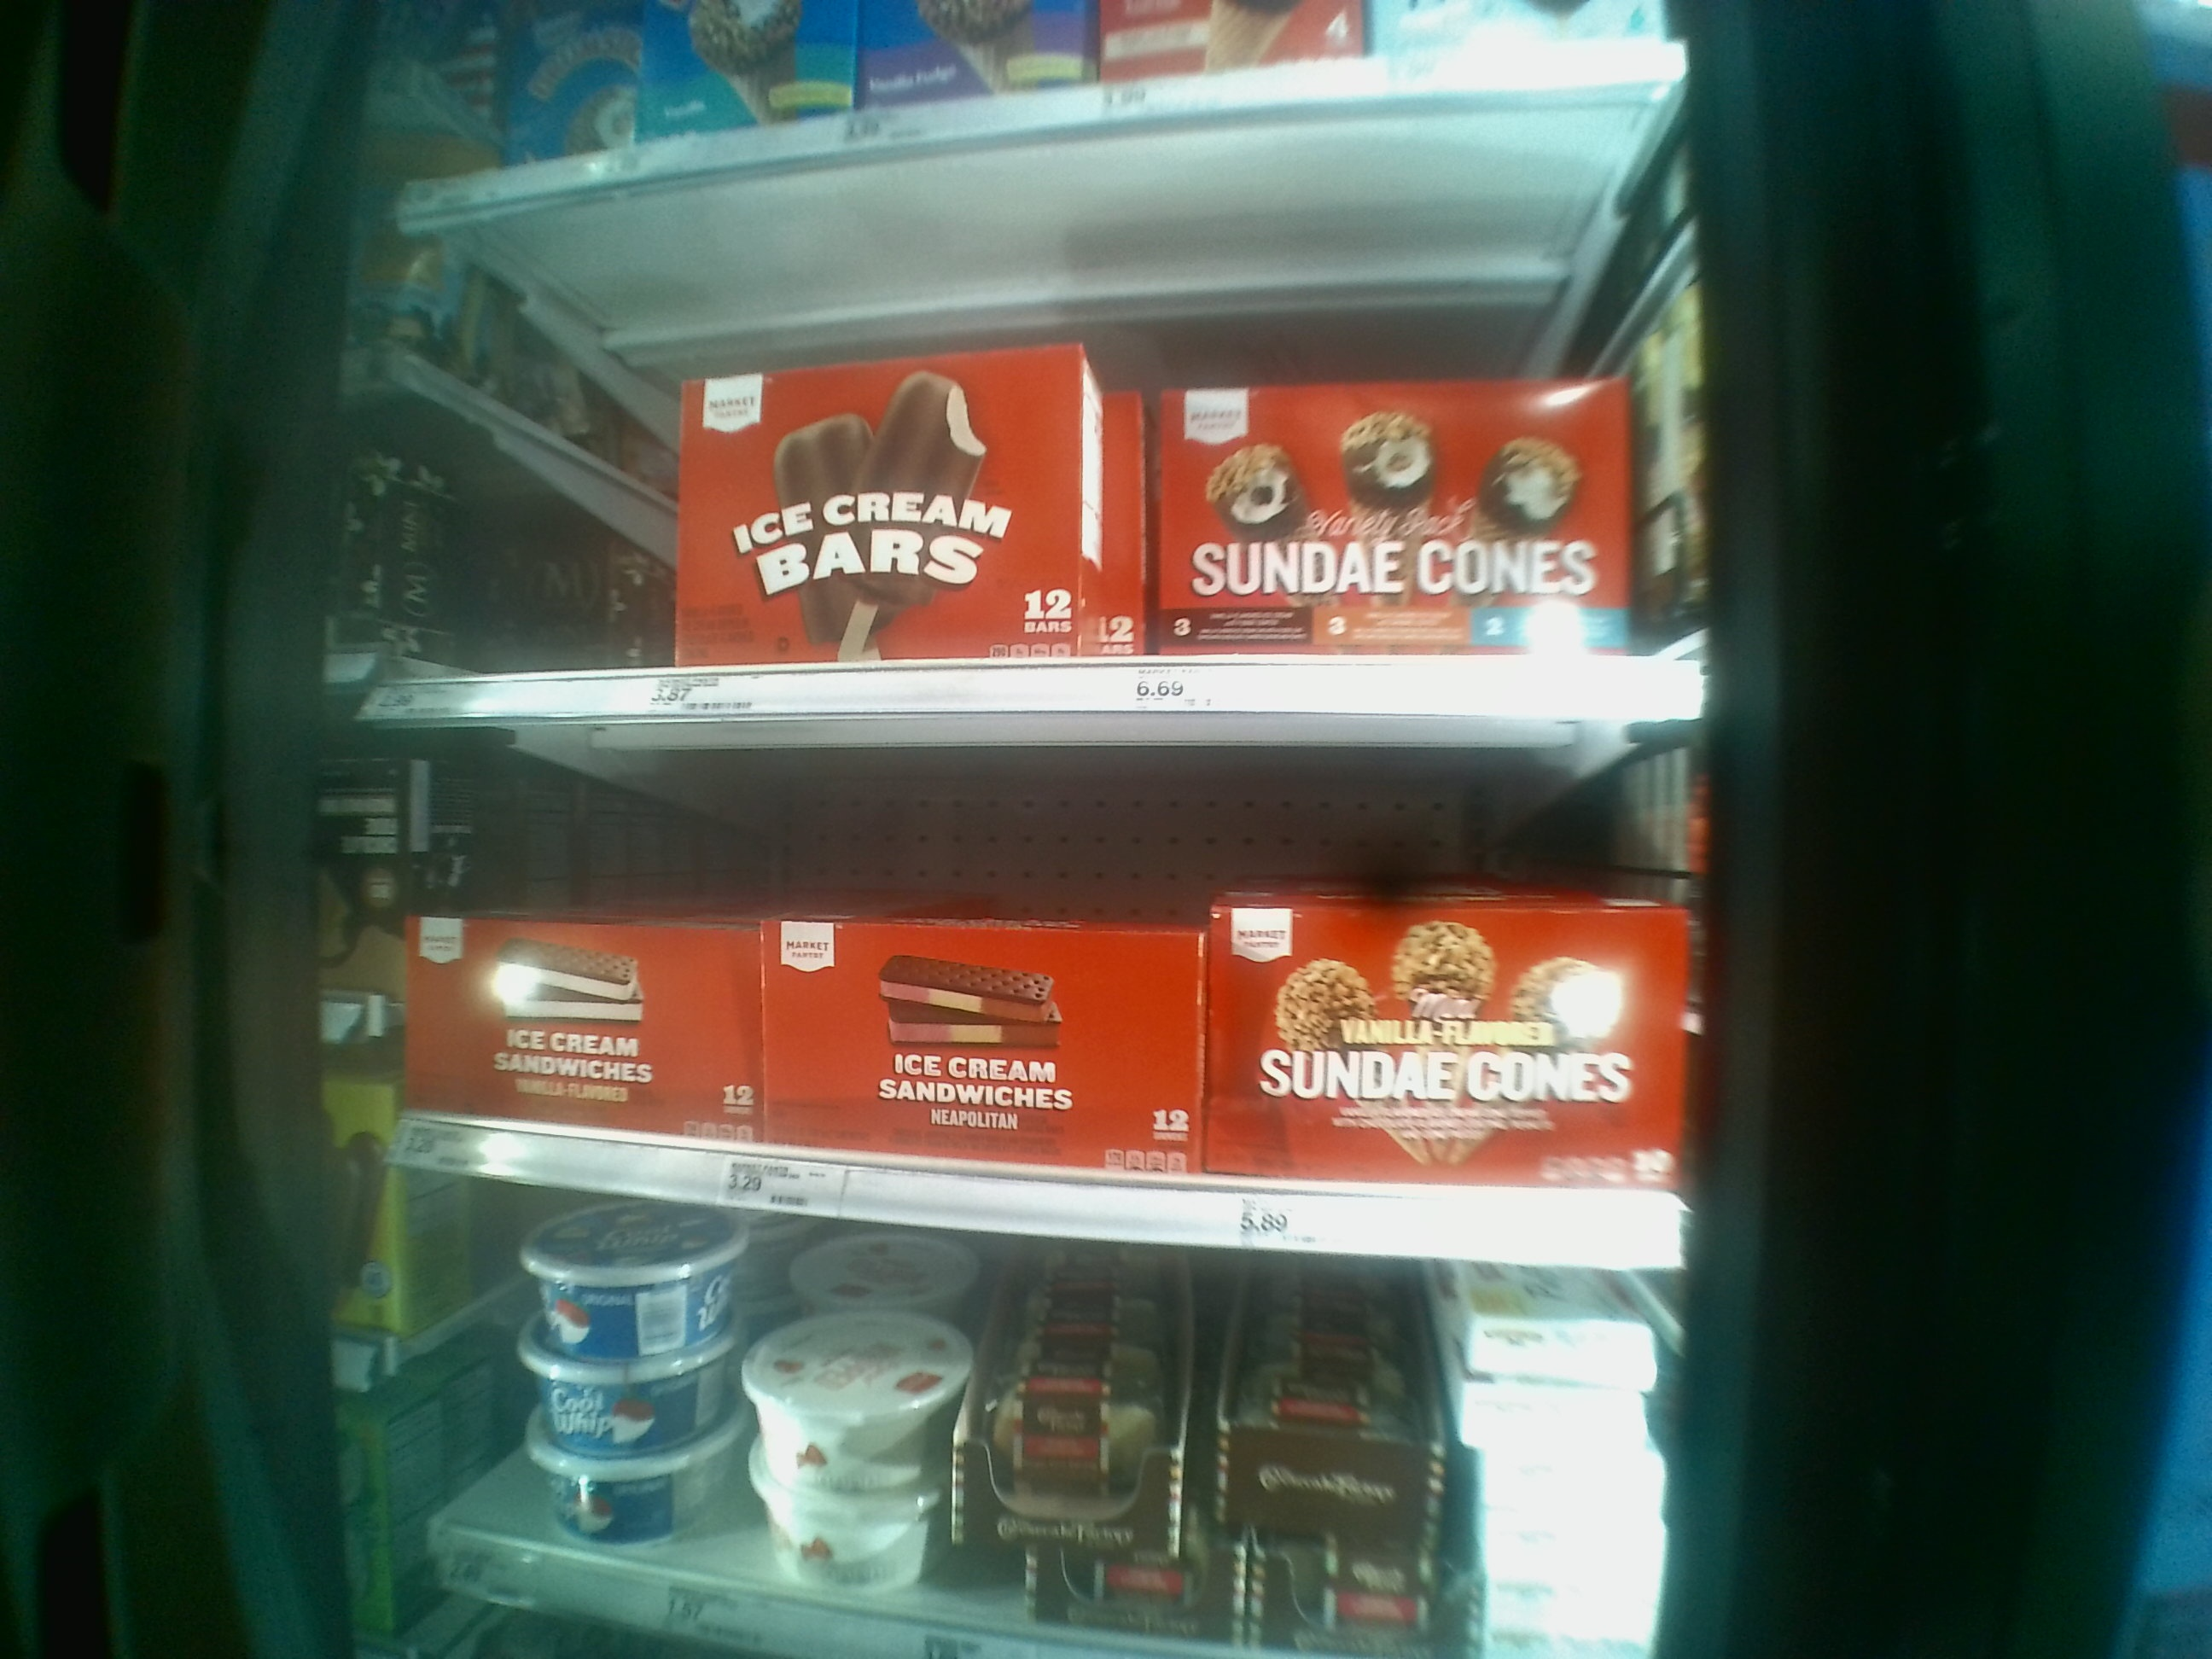shelf: (392, 82, 1709, 716), (361, 716, 1679, 1265)
